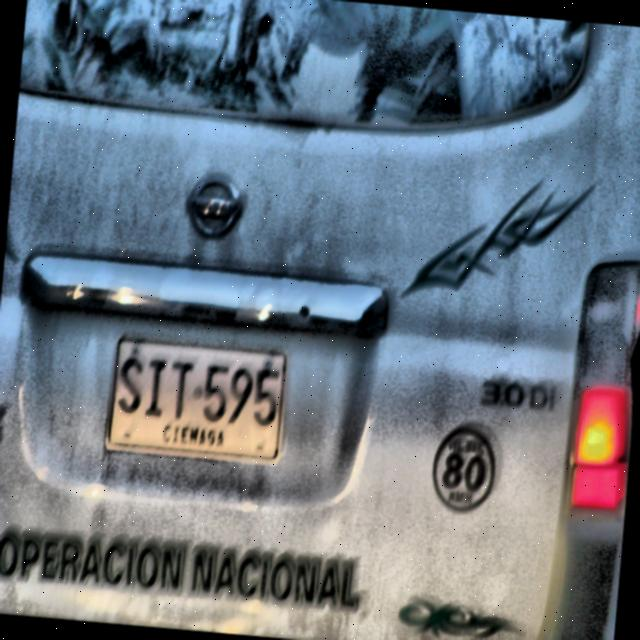plate: (104, 334, 289, 466)
